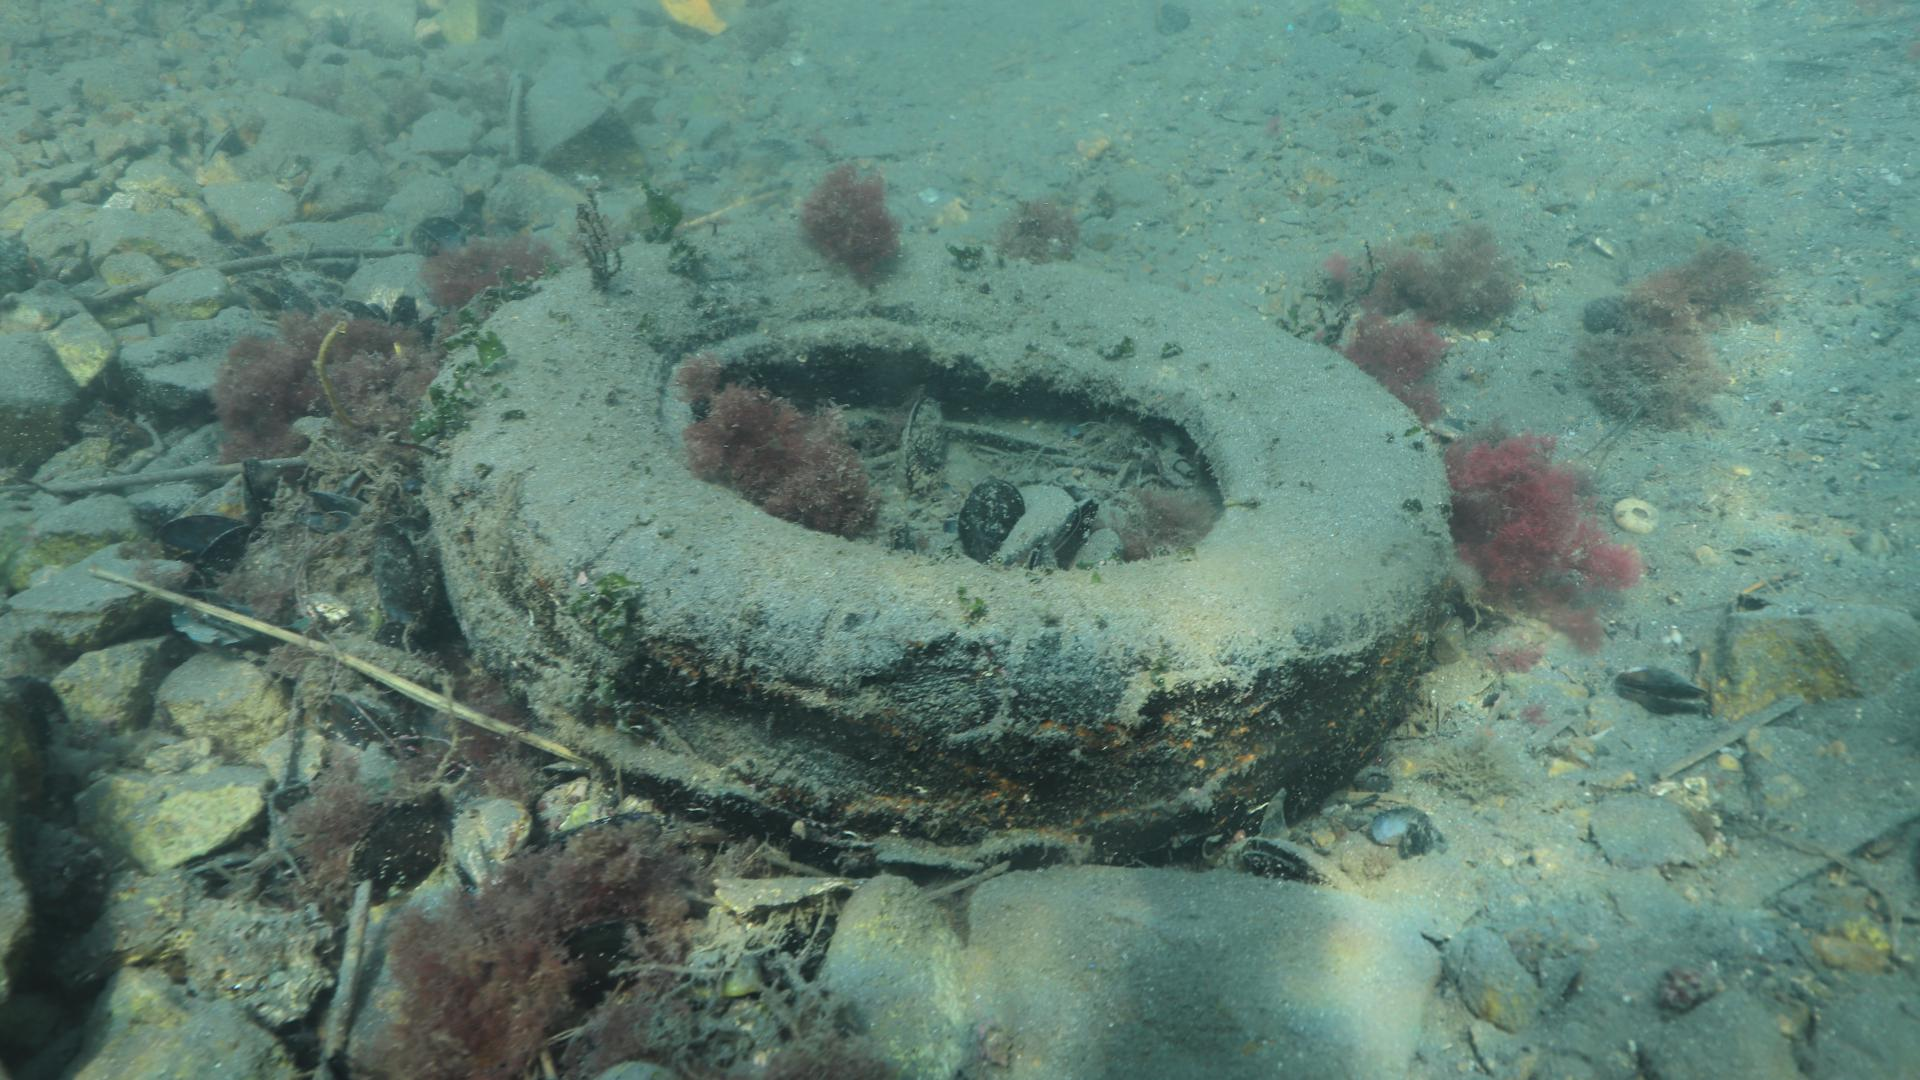tire: (423, 214, 1455, 840)
